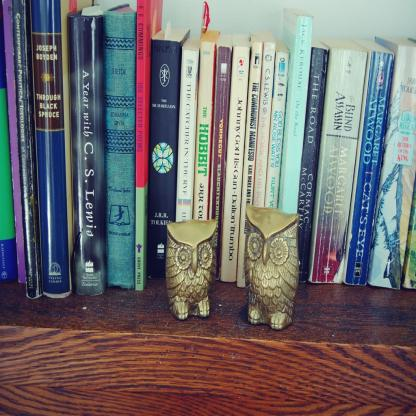book: (24, 0, 101, 298), (308, 31, 364, 283), (343, 39, 391, 285), (103, 1, 139, 290), (376, 33, 416, 293), (143, 18, 179, 296), (134, 0, 167, 294), (15, 0, 39, 302), (2, 0, 27, 285), (223, 29, 251, 279), (279, 2, 311, 219), (172, 32, 204, 219), (302, 32, 326, 279), (216, 28, 240, 272), (242, 26, 262, 290), (195, 24, 216, 216), (256, 23, 274, 213), (272, 34, 284, 208)
